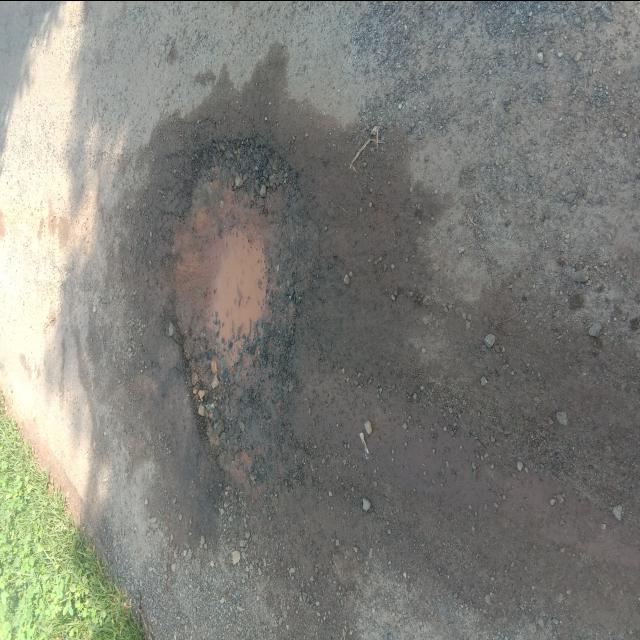potholes: (160, 133, 322, 489)
